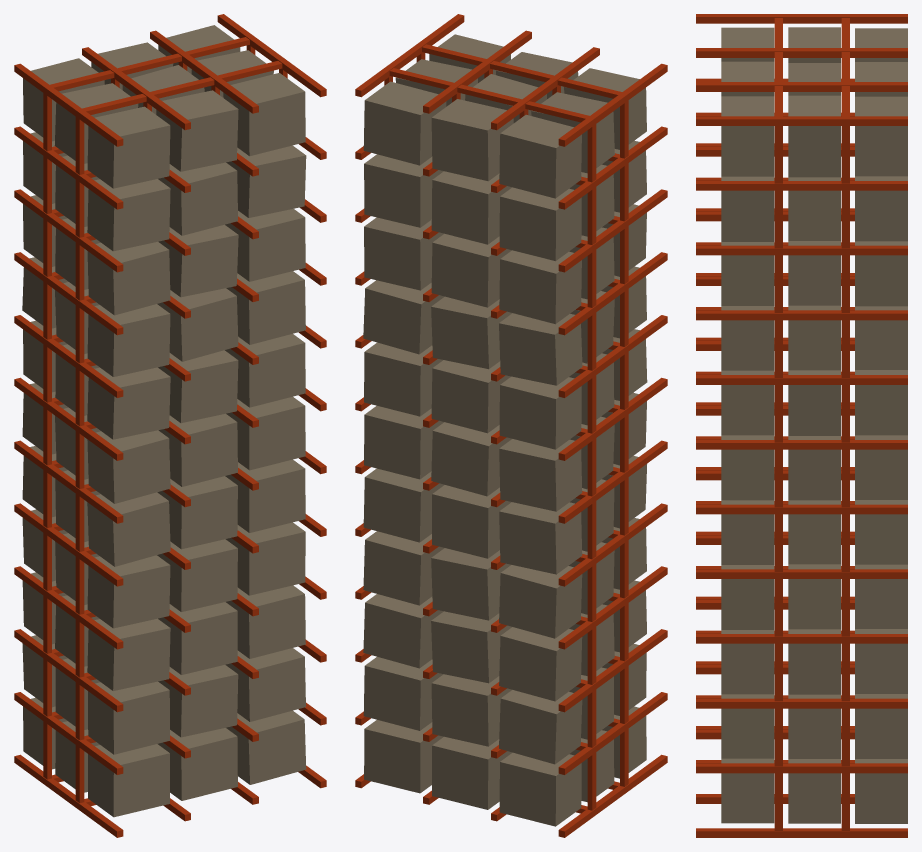
Rendered from bale_storage.obj.
3 views of the same model, side by side, from view 1: azimuth 30°, elevation 25°; view 2: azimuth 150°, elevation 25°; view 3: azimuth 270°, elevation 25° (orthographic). The views are drawn at different scales.
Parts seen in each view (by area): view 1: rack_rail.028, rack_rail.024, bale.329, bale.314, bale.395, bale.323, bale.326, bale.317, bale.305, bale.311, bale.320, bale.362 (+66 smaller); view 2: rack_rail.024, rack_rail.028, bale.327, bale.315, bale.309, bale.393, bale.306, bale.324, bale.321, bale.312, bale.360, bale.297 (+66 smaller); view 3: rack_rail.027, rack_rail.031, bale.394, bale.395, bale.393, bale.380, bale.392, bale.365, bale.377, bale.368, bale.374, bale.386 (+51 smaller).
Part boxes in pixels (<box>): rack_rail.028: <box>75,117,84,803</box>; rack_rail.024: <box>43,93,51,779</box>; bale.329: <box>87,106,170,188</box>; bale.314: <box>87,430,170,503</box>; bale.395: <box>223,73,305,156</box>; bale.323: <box>87,241,170,315</box>; bale.326: <box>87,179,170,251</box>; bale.317: <box>87,367,170,439</box>; bale.305: <box>87,618,170,690</box>; bale.311: <box>87,492,170,566</box>; bale.320: <box>87,304,170,376</box>; bale.362: <box>156,90,238,171</box>; rack_rail.024: <box>587,124,596,810</box>; rack_rail.028: <box>620,100,628,786</box>; bale.327: <box>499,114,581,198</box>; bale.315: <box>499,376,581,449</box>; bale.309: <box>499,502,582,574</box>; bale.393: <box>363,81,446,165</box>; bale.306: <box>499,565,582,638</box>; bale.324: <box>499,187,581,261</box>; bale.321: <box>499,250,581,324</box>; bale.312: <box>499,439,582,511</box>; bale.360: <box>431,99,513,181</box>; bale.297: <box>499,752,581,826</box>; rack_rail.027: <box>841,126,849,830</box>; rack_rail.031: <box>774,126,782,830</box>; bale.394: <box>788,95,840,177</box>; bale.395: <box>721,96,774,176</box>; bale.393: <box>855,96,907,176</box>; bale.380: <box>721,435,774,500</box>; bale.392: <box>721,176,774,241</box>; bale.365: <box>721,758,774,823</box>; bale.377: <box>721,500,774,564</box>; bale.368: <box>721,694,774,758</box>; bale.374: <box>721,565,774,629</box>; bale.386: <box>721,306,774,370</box>.
Bounding box in the file's own units: 5.41 × 17.21 × 4.6.
